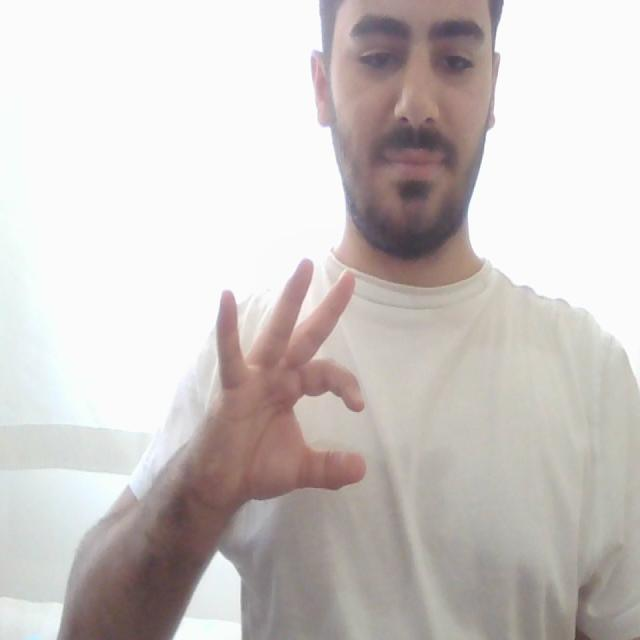Tuvalet: (175, 236, 406, 536)
